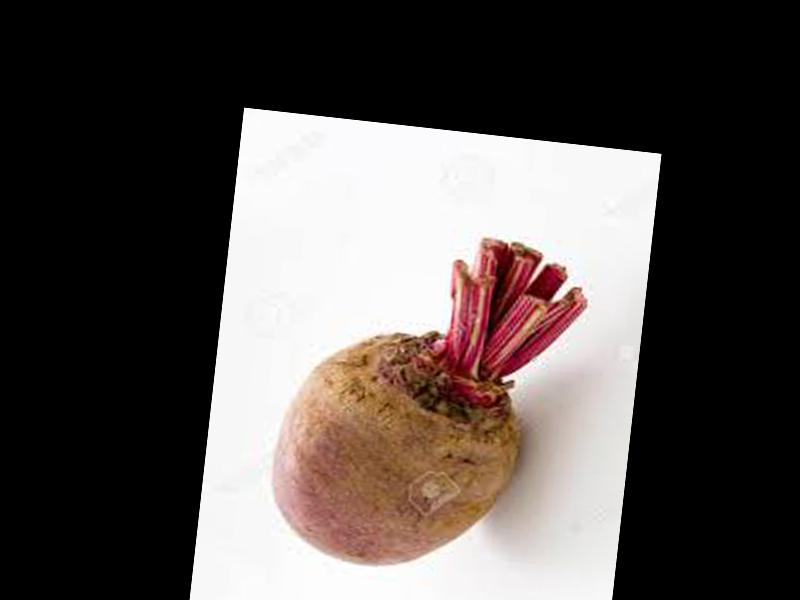Beet: (261, 218, 595, 587)
